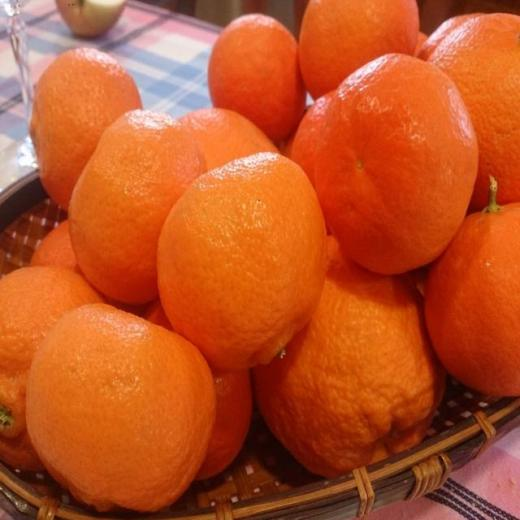Grape: (251, 227, 434, 476), (301, 54, 489, 274), (30, 302, 213, 510), (148, 144, 310, 360), (68, 109, 201, 301), (420, 194, 518, 392), (207, 0, 333, 142), (34, 46, 142, 207), (428, 10, 520, 199), (0, 263, 94, 415), (300, 0, 421, 89), (185, 105, 284, 163), (32, 210, 78, 273)
